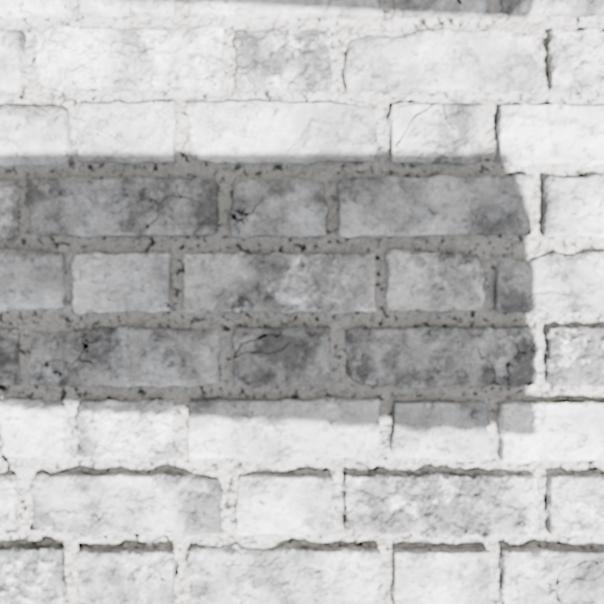brick: (343, 472, 538, 537), (35, 25, 224, 91), (31, 472, 222, 537), (343, 29, 538, 92), (188, 397, 380, 460), (337, 175, 534, 236), (187, 101, 376, 163), (346, 326, 538, 387), (183, 252, 374, 313), (27, 326, 219, 386), (186, 544, 380, 603), (26, 177, 217, 236), (497, 104, 603, 165), (494, 253, 603, 312), (498, 401, 603, 461), (75, 399, 175, 461), (77, 101, 175, 164), (233, 29, 331, 91), (386, 250, 484, 311), (72, 253, 170, 313), (228, 178, 327, 237), (499, 547, 603, 603), (390, 400, 487, 460), (388, 104, 485, 163), (232, 327, 329, 386), (236, 475, 332, 534), (77, 547, 174, 603), (391, 548, 489, 603), (0, 543, 66, 603), (541, 175, 603, 236), (548, 27, 603, 92), (544, 325, 603, 385), (545, 475, 603, 535), (189, 0, 376, 18), (80, 0, 175, 18), (501, 0, 603, 16), (394, 0, 486, 17), (0, 30, 25, 91), (552, 576, 603, 603), (0, 475, 19, 534), (0, 181, 19, 240), (0, 328, 19, 383), (560, 562, 603, 578)
broken_brick: (0, 104, 71, 166), (0, 397, 68, 459), (0, 249, 66, 312), (0, 0, 70, 17)
crack: (546, 558, 603, 603), (394, 104, 433, 148), (233, 330, 291, 358), (228, 197, 263, 225), (476, 345, 500, 385), (505, 341, 526, 385), (0, 422, 17, 475), (131, 532, 173, 548), (19, 498, 40, 530), (441, 104, 455, 130), (324, 0, 346, 11), (178, 585, 191, 603), (203, 73, 223, 83), (396, 101, 421, 108), (173, 558, 179, 575), (0, 15, 10, 22), (164, 301, 170, 311), (0, 384, 6, 392), (0, 397, 4, 407), (456, 0, 462, 5), (376, 454, 381, 459)
